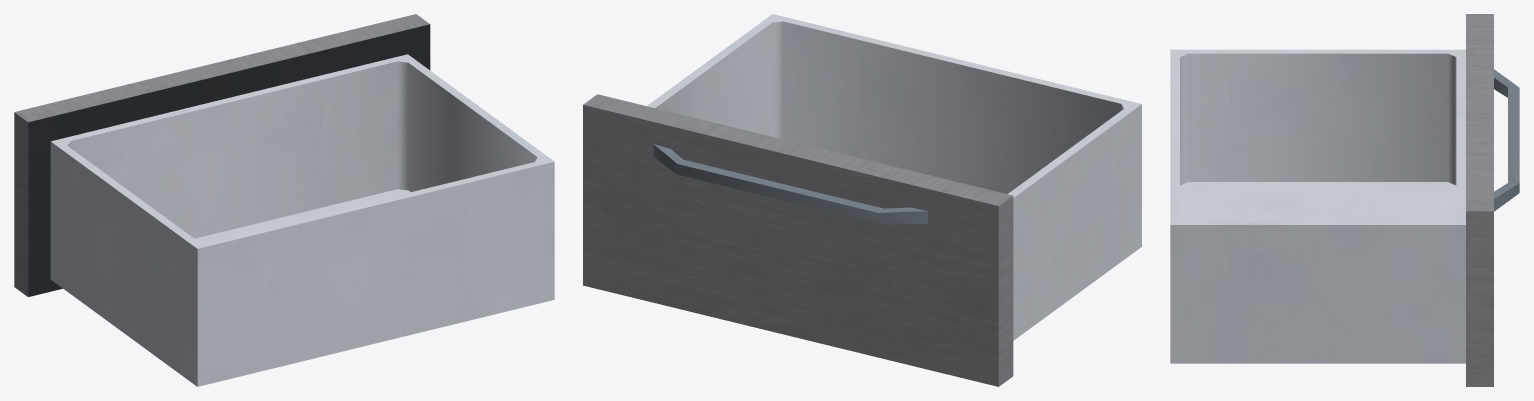
Rendered from Refrigerator_drawer_02.glb.
The picture shows the model from 3 angles, left to right: view 1: azimuth 30°, elevation 25°; view 2: azimuth 150°, elevation 25°; view 3: azimuth 270°, elevation 25°; orthographic projection. The views are drawn at different scales.
Parts seen in each view (by area): view 1: Refrigerator_drawer_02; view 2: Refrigerator_drawer_02; view 3: Refrigerator_drawer_02.
Part boxes in pixels (x1,y1,x2,y2): Refrigerator_drawer_02: (14, 14, 554, 386); Refrigerator_drawer_02: (583, 14, 1141, 386); Refrigerator_drawer_02: (1170, 14, 1519, 386).
Size of the model in its own units: 1.11 by 0.4596 by 0.8271.
4 materials, 4 textured.
